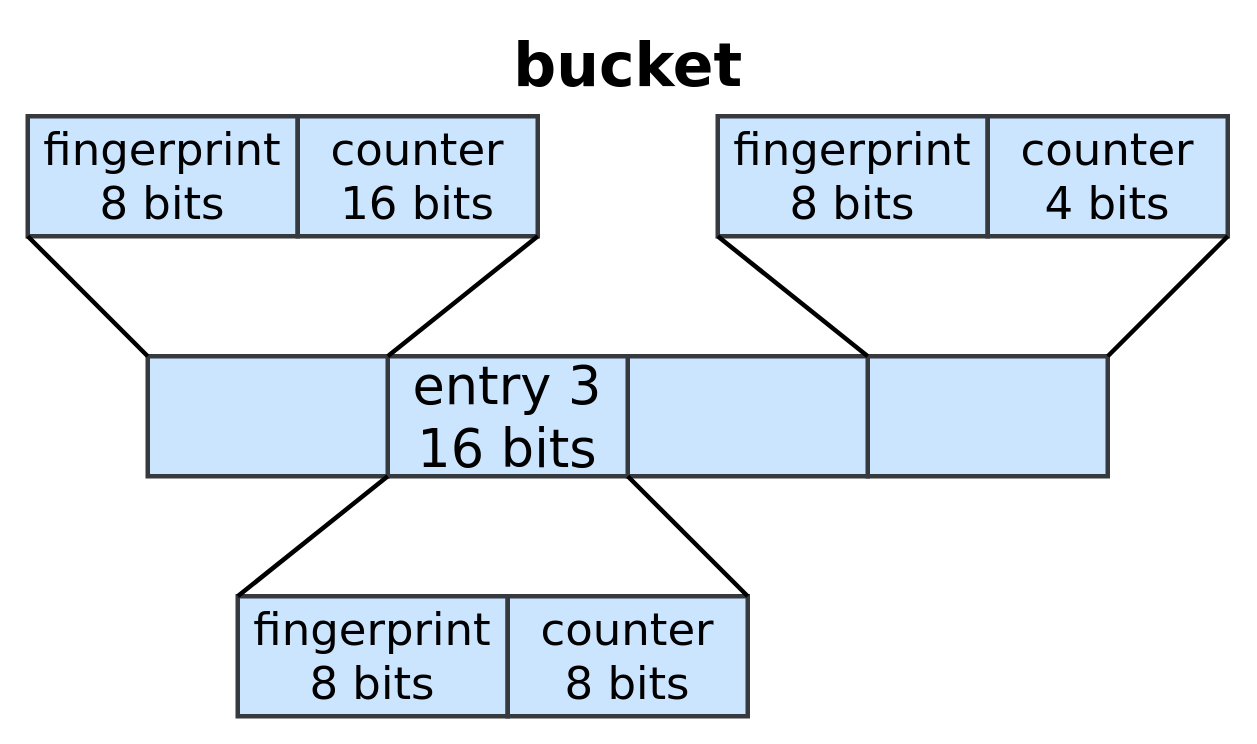
Image size: 1257x744. Some labels were removed from this diagram. The centre of each missing label's shape, as x and y in pixels:
"entry 1 12 bits" goes at point (987, 415).
"entry 2 12 bits" goes at point (747, 415).
"entry 4 24 bits" goes at point (267, 415).
